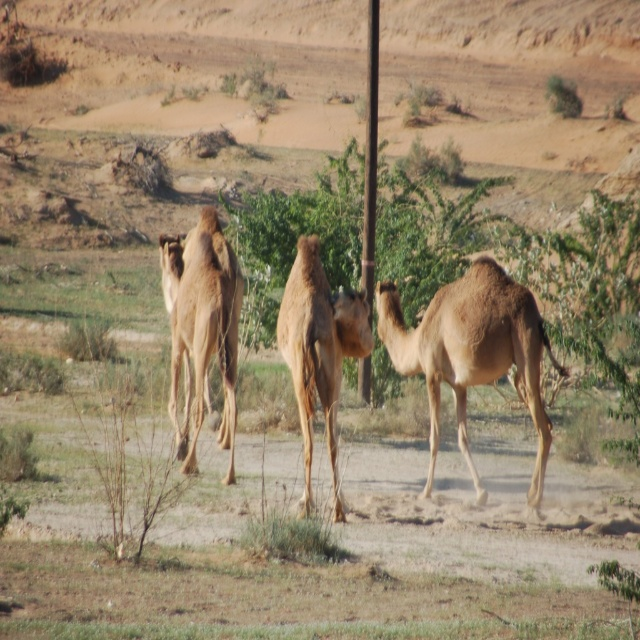Camel: (374, 253, 571, 525), (277, 233, 375, 521), (159, 205, 244, 486)
